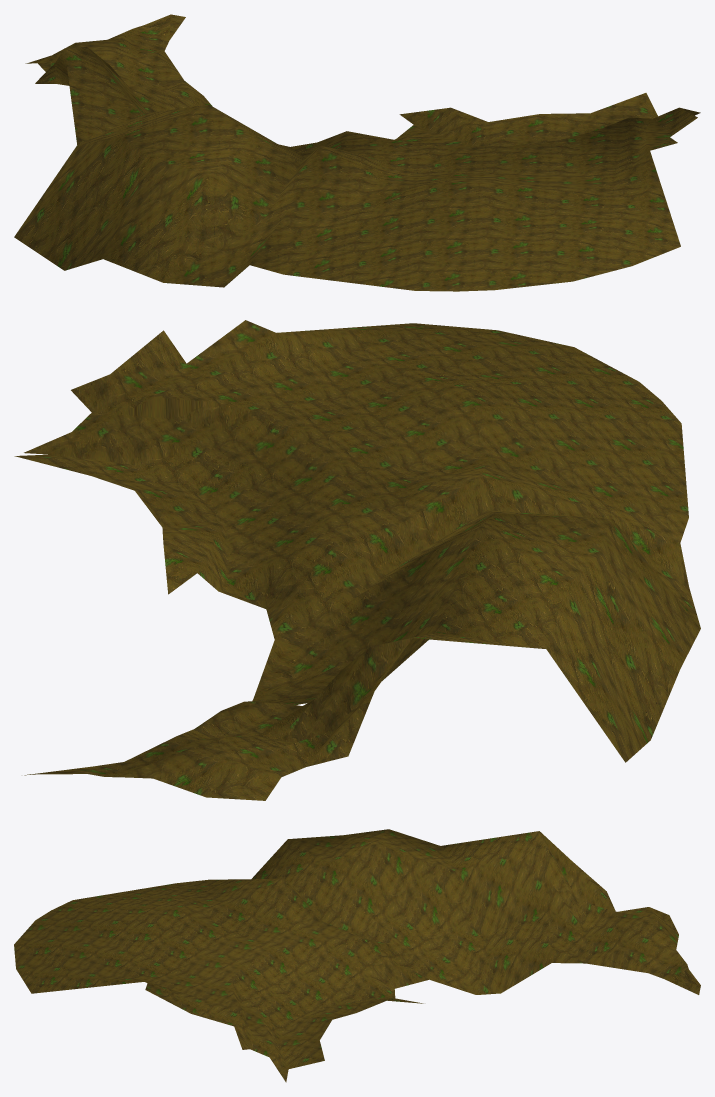
Rendered from MIRKWOOD_AREA1-2_BARRIER.fbx.
The picture shows the model from 3 angles, top to bottom: view 1: azimuth 30°, elevation 25°; view 2: azimuth 150°, elevation 25°; view 3: azimuth 270°, elevation 25°; orthographic projection. The views are drawn at different scales.
Visible parts, largest first — view 1: MIRKWOOD_AREA1-2_BARRIER; view 2: MIRKWOOD_AREA1-2_BARRIER; view 3: MIRKWOOD_AREA1-2_BARRIER.
Boxes of the visible parts, x1=… form: MIRKWOOD_AREA1-2_BARRIER: x1=14, y1=14, x2=700, y2=291; MIRKWOOD_AREA1-2_BARRIER: x1=14, y1=320, x2=700, y2=800; MIRKWOOD_AREA1-2_BARRIER: x1=14, y1=829, x2=700, y2=1082.
Size of the model in its own units: 1139463 by 252989 by 1423781.
Materials: 1 (1 with a texture image).
